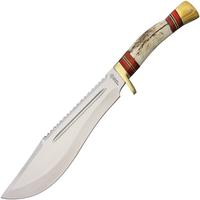knife: (1, 4, 192, 200)
